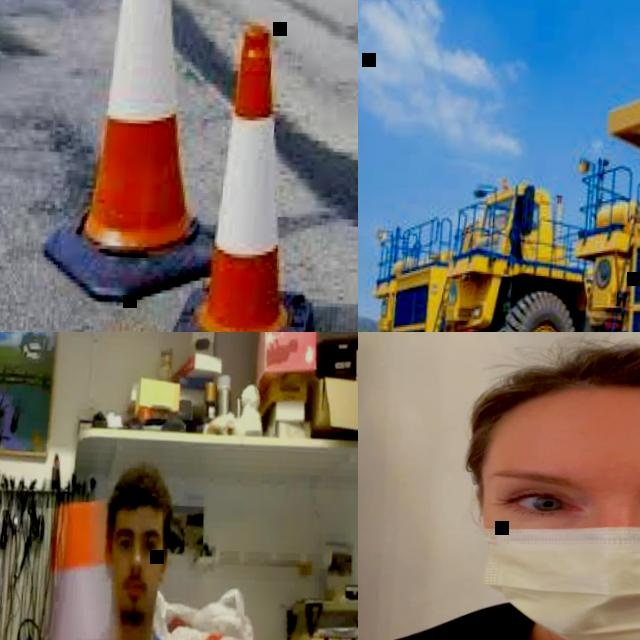Mask: (462, 489, 640, 640)
NO-Hardhat: (464, 335, 640, 459), (111, 467, 173, 520)
NO-Mask: (119, 579, 157, 622)
Person: (358, 332, 640, 640), (1, 460, 230, 640)
Safety Cone: (45, 0, 244, 310), (170, 22, 331, 332), (5, 492, 178, 640)
machinery: (362, 167, 615, 332), (566, 3, 640, 332)
